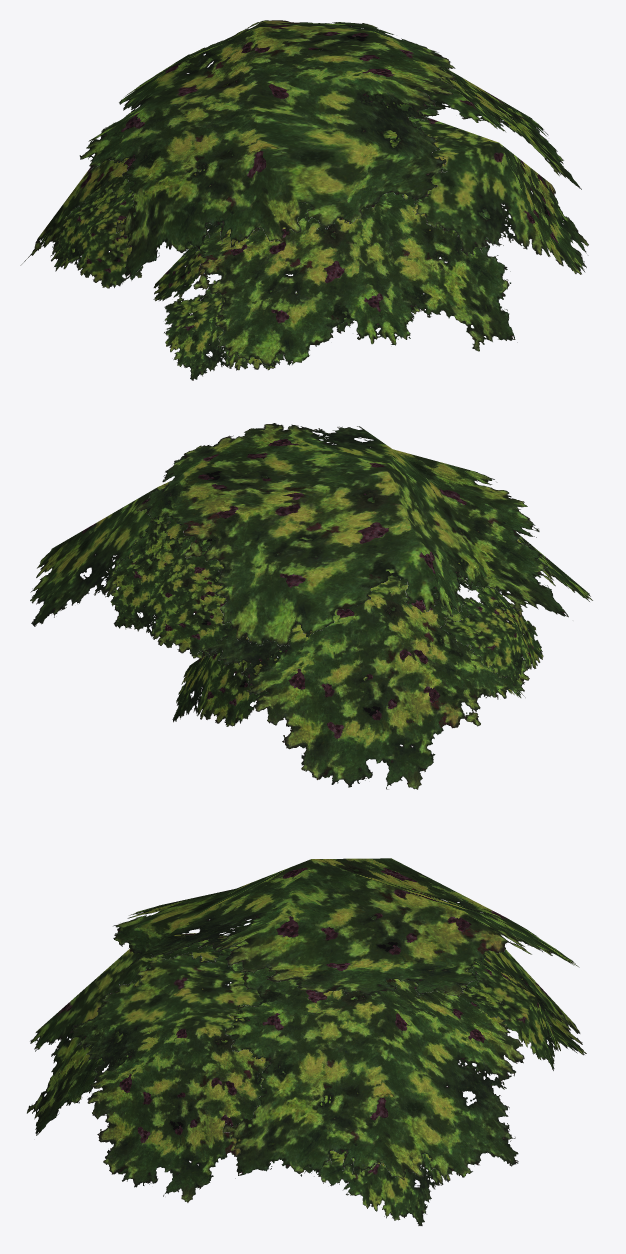
File: tree_leaf_200m.DAE
3 renders of one model, top to bottom at view 1: azimuth 30°, elevation 25°; view 2: azimuth 150°, elevation 25°; view 3: azimuth 270°, elevation 25°, orthographic. The views are drawn at different scales.
Visible parts, largest first — view 1: Box01; view 2: Box01; view 3: Box01.
Part boxes in pixels (<box>): Box01: <box>20,20,588,380</box>; Box01: <box>30,423,592,789</box>; Box01: <box>26,858,586,1225</box>.
Size of the model in its own units: 330 by 168 by 317.
